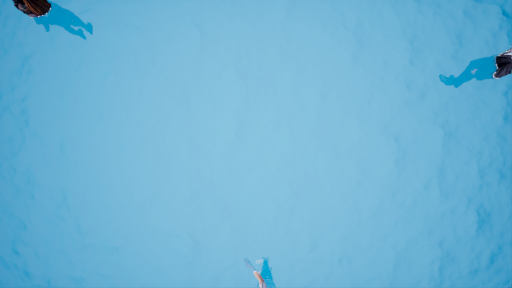person: (12, 1, 107, 50), (440, 29, 512, 86), (239, 246, 287, 288)
